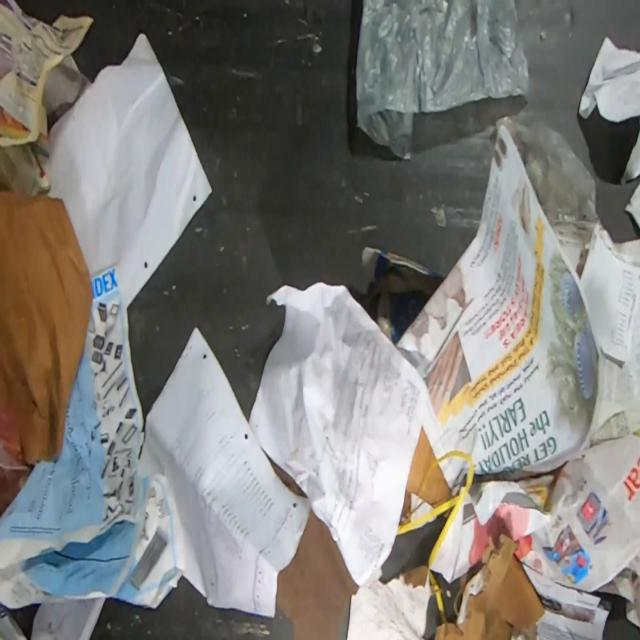cardboard: (0, 191, 93, 467), (434, 532, 546, 640), (276, 506, 358, 640), (360, 246, 444, 345), (343, 564, 433, 640), (406, 428, 453, 508)
soft_plastic: (355, 0, 530, 160), (493, 110, 601, 252)
